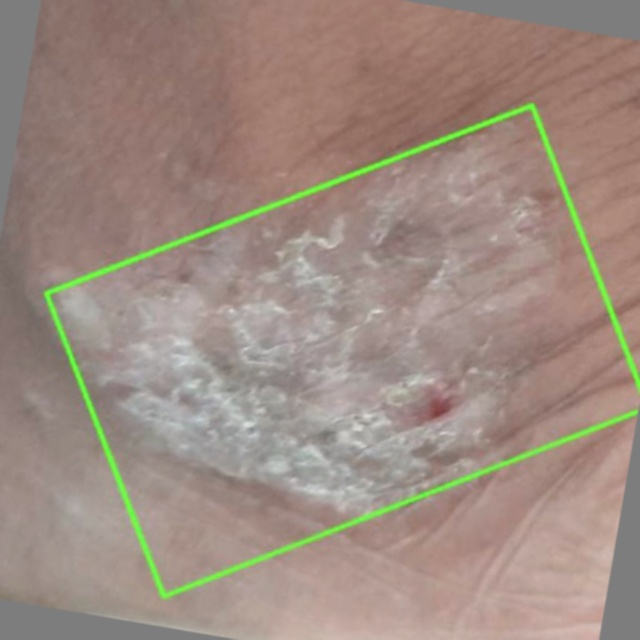Eczema: (42, 101, 639, 596)
